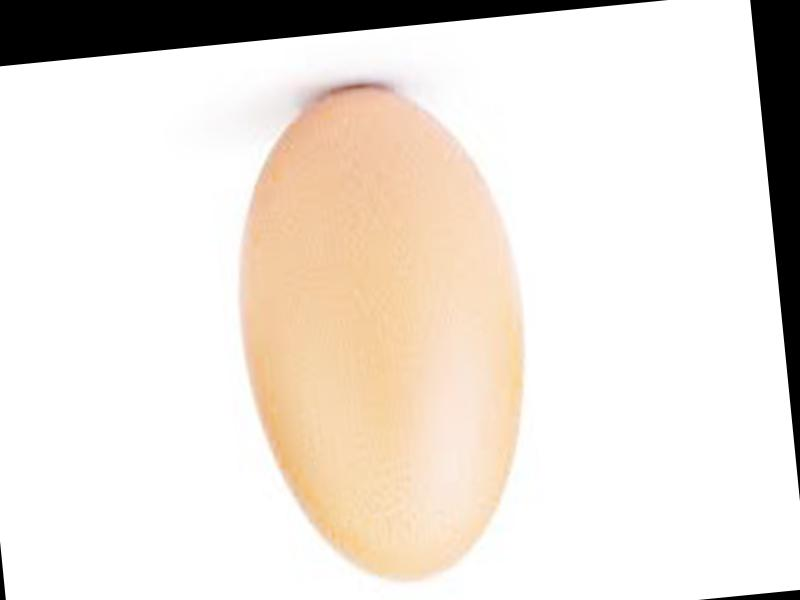Eggs: (221, 74, 543, 595)
